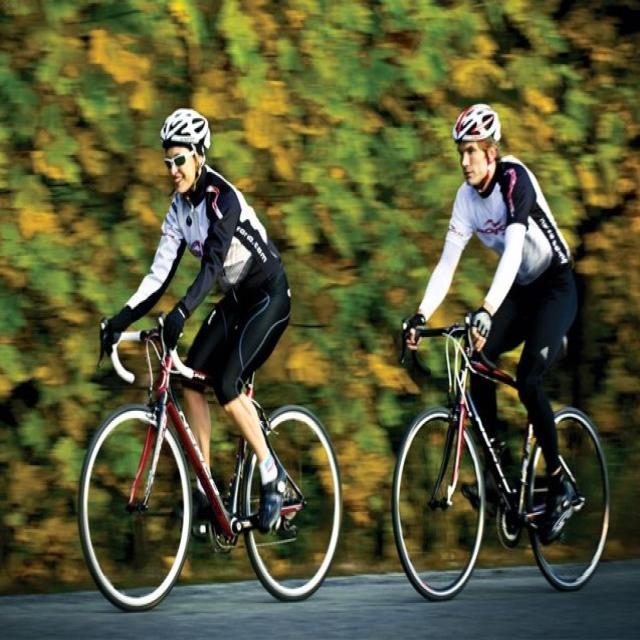Helmet: (153, 93, 218, 200), (450, 93, 504, 196)
